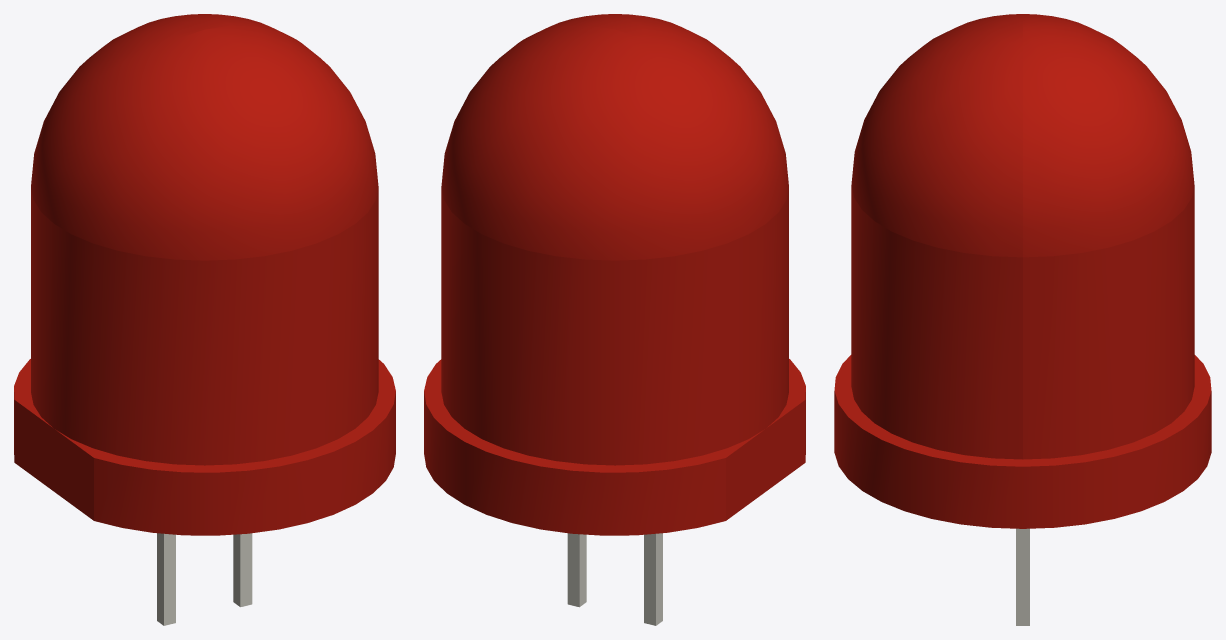
Rendered from kc-led_d10.0mm.glb.
3 views of the same model, side by side, from view 1: azimuth 30°, elevation 25°; view 2: azimuth 150°, elevation 25°; view 3: azimuth 270°, elevation 25° (orthographic).
Parts seen in each view (by area): view 1: 0.4166666666666667_0_0_0, 0.6666666666666666_0.6666666666666666_0.5833333333333334_0.8; view 2: 0.4166666666666667_0_0_0, 0.6666666666666666_0.6666666666666666_0.5833333333333334_0.8; view 3: 0.4166666666666667_0_0_0, 0.6666666666666666_0.6666666666666666_0.5833333333333334_0.8.
Boxes of the visible parts, left/top/right/bottom form: 0.4166666666666667_0_0_0: left=14, top=14, right=395, bottom=535; 0.6666666666666666_0.6666666666666666_0.5833333333333334_0.8: left=157, top=533, right=252, bottom=625; 0.4166666666666667_0_0_0: left=424, top=14, right=805, bottom=535; 0.6666666666666666_0.6666666666666666_0.5833333333333334_0.8: left=567, top=533, right=662, bottom=625; 0.4166666666666667_0_0_0: left=834, top=14, right=1211, bottom=528; 0.6666666666666666_0.6666666666666666_0.5833333333333334_0.8: left=1016, top=528, right=1029, bottom=625.
Size of the model in its own units: 1.05 by 1.85 by 1.1.
